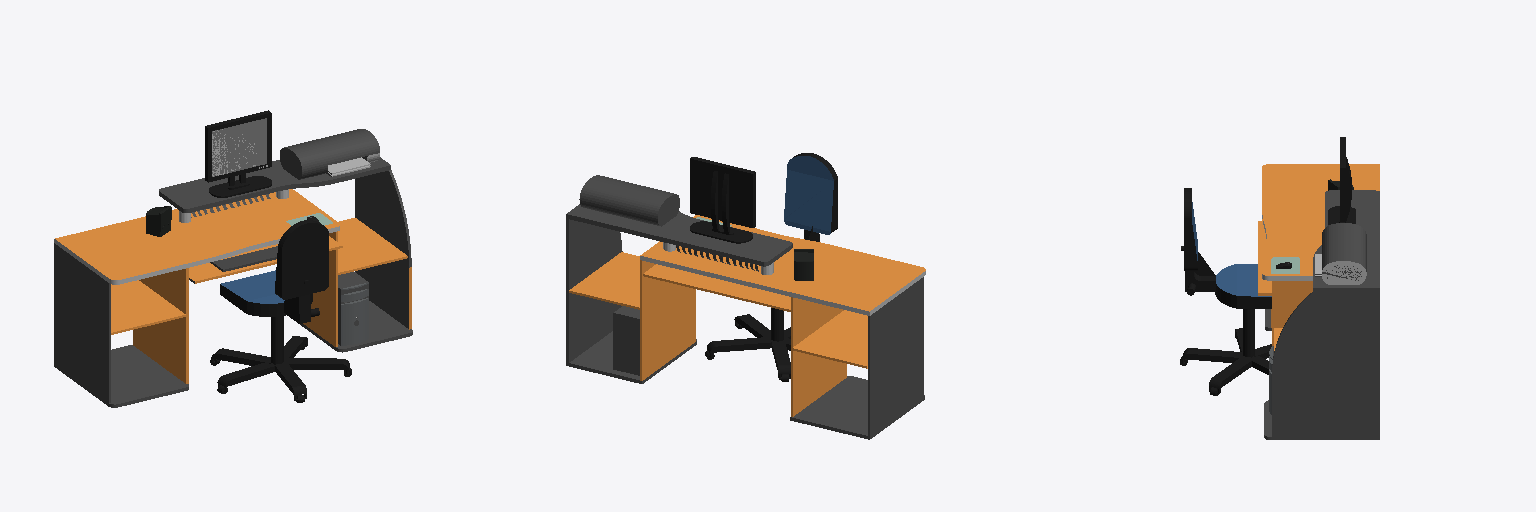
The picture shows the model from 3 angles: view 1: azimuth 30°, elevation 25°; view 2: azimuth 150°, elevation 25°; view 3: azimuth 270°, elevation 25°; orthographic projection.
Visible parts, largest first — view 1: Mesh10 Group1 Computer_desk_with_chair__printer__keyboard__mouse, Mesh2 Group3 Group1 Computer_desk_with_chair__printer__keyboard_, Mesh56 Group37 Group9 Computer_desk_with_chair__printer__keyboar, Mesh5 Group6 Group1 Computer_desk_with_chair__printer__keyboard_, Mesh1 Group2 Group1 Computer_desk_with_chair__printer__keyboard_, Mesh4 Group5 Group1 Computer_desk_with_chair__printer__keyboard_, Mesh6 Group6 Group1 Computer_desk_with_chair__printer__keyboard_, Mesh28 Group10 Group9 Computer_desk_with_chair__printer__keyboar, Mesh3 Group4 Group1 Computer_desk_with_chair__printer__keyboard_, Mesh17 Group1 Computer_desk_with_chair__printer__keyboard__mouse, Mesh36 Group19 Group16 Group9 Computer_desk_with_chair__printer_, Mesh8 Group8 Group1 Computer_desk_with_chair__printer__keyboard_ (+5 smaller); view 2: Mesh10 Group1 Computer_desk_with_chair__printer__keyboard__mouse, Mesh5 Group6 Group1 Computer_desk_with_chair__printer__keyboard_, Mesh2 Group3 Group1 Computer_desk_with_chair__printer__keyboard_, Mesh55 Group38 Group37 Group9 Computer_desk_with_chair__printer_, Mesh1 Group2 Group1 Computer_desk_with_chair__printer__keyboard_, Mesh4 Group5 Group1 Computer_desk_with_chair__printer__keyboard_, Mesh3 Group4 Group1 Computer_desk_with_chair__printer__keyboard_, Mesh46 Group29 Group26 Group9 Computer_desk_with_chair__printer_, Mesh8 Group8 Group1 Computer_desk_with_chair__printer__keyboard_; view 3: Mesh10 Group1 Computer_desk_with_chair__printer__keyboard__mouse, Mesh28 Group10 Group9 Computer_desk_with_chair__printer__keyboar, Mesh5 Group6 Group1 Computer_desk_with_chair__printer__keyboard_, Mesh56 Group37 Group9 Computer_desk_with_chair__printer__keyboar, Mesh58 Group9 Computer_desk_with_chair__printer__keyboard__mouse, Mesh31 Group14 Group11 Group9 Computer_desk_with_chair__printer_, Mesh36 Group19 Group16 Group9 Computer_desk_with_chair__printer_, Mesh57 Group9 Computer_desk_with_chair__printer__keyboard__mouse.
Boxes of the visible parts, x1,y1,x2,y2 form: Mesh10 Group1 Computer_desk_with_chair__printer__keyboard__mouse: [54, 129, 412, 407]; Mesh2 Group3 Group1 Computer_desk_with_chair__printer__keyboard_: [133, 268, 188, 383]; Mesh56 Group37 Group9 Computer_desk_with_chair__printer__keyboar: [275, 220, 328, 299]; Mesh5 Group6 Group1 Computer_desk_with_chair__printer__keyboard_: [205, 110, 271, 197]; Mesh1 Group2 Group1 Computer_desk_with_chair__printer__keyboard_: [111, 280, 185, 334]; Mesh4 Group5 Group1 Computer_desk_with_chair__printer__keyboard_: [338, 218, 407, 274]; Mesh6 Group6 Group1 Computer_desk_with_chair__printer__keyboard_: [212, 118, 266, 176]; Mesh28 Group10 Group9 Computer_desk_with_chair__printer__keyboar: [220, 270, 312, 316]; Mesh3 Group4 Group1 Computer_desk_with_chair__printer__keyboard_: [189, 236, 342, 283]; Mesh17 Group1 Computer_desk_with_chair__printer__keyboard__mouse: [210, 246, 277, 271]; Mesh36 Group19 Group16 Group9 Computer_desk_with_chair__printer_: [284, 358, 349, 369]; Mesh8 Group8 Group1 Computer_desk_with_chair__printer__keyboard_: [146, 206, 171, 236]; Mesh10 Group1 Computer_desk_with_chair__printer__keyboard__mouse: [566, 175, 925, 439]; Mesh5 Group6 Group1 Computer_desk_with_chair__printer__keyboard_: [690, 157, 755, 243]; Mesh2 Group3 Group1 Computer_desk_with_chair__printer__keyboard_: [791, 297, 846, 416]; Mesh55 Group38 Group37 Group9 Computer_desk_with_chair__printer_: [784, 156, 833, 234]; Mesh1 Group2 Group1 Computer_desk_with_chair__printer__keyboard_: [792, 310, 867, 368]; Mesh4 Group5 Group1 Computer_desk_with_chair__printer__keyboard_: [569, 252, 639, 309]; Mesh3 Group4 Group1 Computer_desk_with_chair__printer__keyboard_: [643, 264, 790, 311]; Mesh46 Group29 Group26 Group9 Computer_desk_with_chair__printer_: [707, 337, 771, 352]; Mesh8 Group8 Group1 Computer_desk_with_chair__printer__keyboard_: [794, 249, 813, 280]; Mesh10 Group1 Computer_desk_with_chair__printer__keyboard__mouse: [1262, 164, 1379, 439]; Mesh28 Group10 Group9 Computer_desk_with_chair__printer__keyboar: [1215, 264, 1271, 308]; Mesh5 Group6 Group1 Computer_desk_with_chair__printer__keyboard_: [1328, 137, 1355, 224]; Mesh56 Group37 Group9 Computer_desk_with_chair__printer__keyboar: [1184, 188, 1197, 270]; Mesh58 Group9 Computer_desk_with_chair__printer__keyboard__mouse: [1185, 252, 1215, 291]; Mesh31 Group14 Group11 Group9 Computer_desk_with_chair__printer_: [1181, 348, 1242, 362]; Mesh36 Group19 Group16 Group9 Computer_desk_with_chair__printer_: [1209, 356, 1251, 388]; Mesh57 Group9 Computer_desk_with_chair__printer__keyboard__mouse: [1243, 309, 1254, 356].
Bounding box in the file's own units: 2.25 × 1.57 × 1.29.